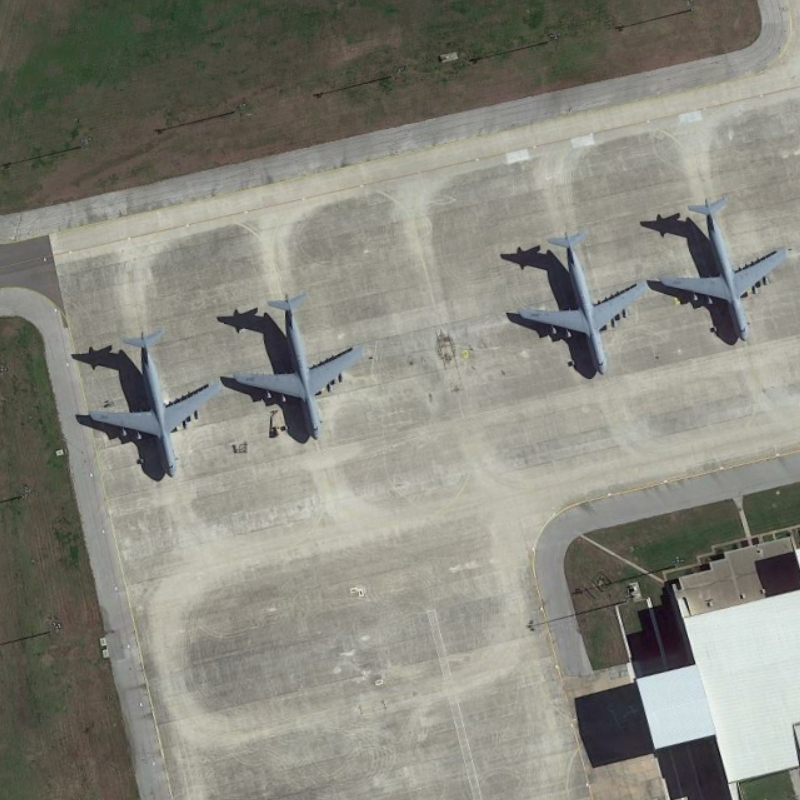A4: (214, 286, 368, 444), (78, 316, 217, 482), (508, 221, 648, 382), (650, 191, 788, 349)
